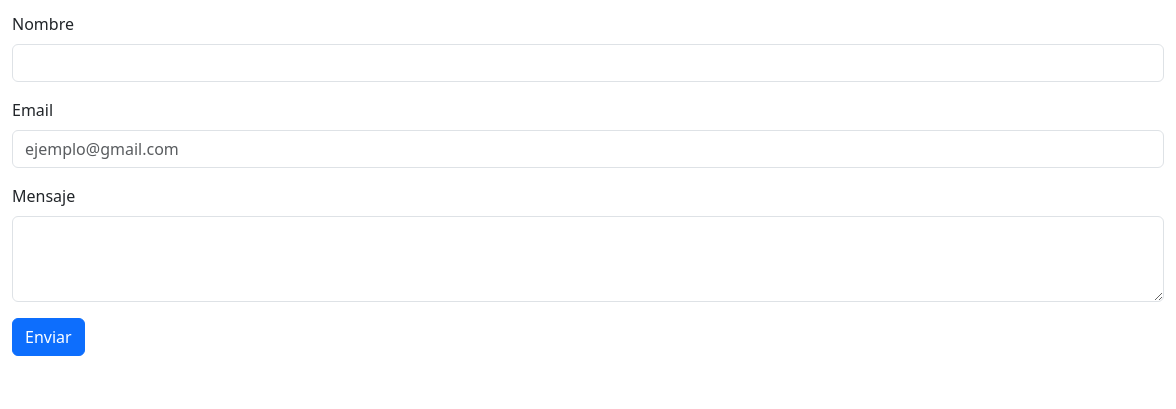
Scenario: ContactForm Component › valida que el email sea válido
Type "Juan Pérez" into the field labelled "Nombre" at (588, 63), box [12,44,1164,82]
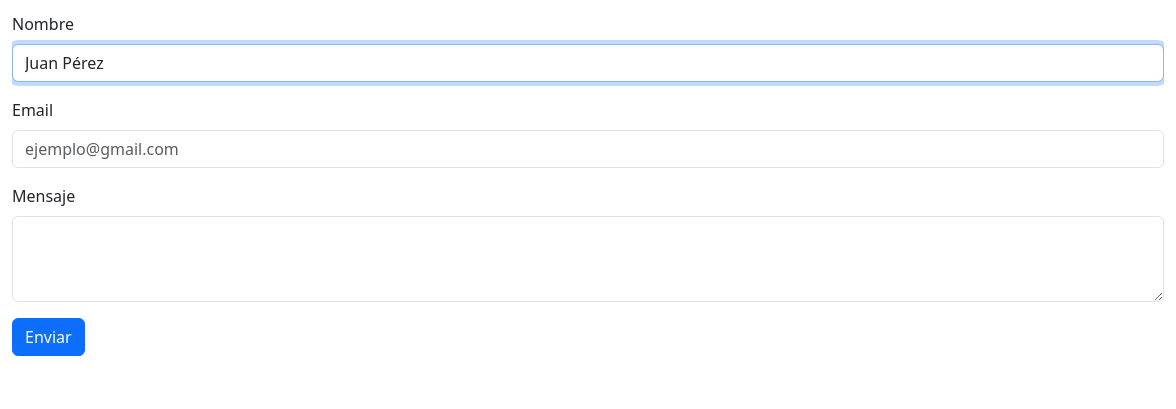
Type "usuario@hotmail.com" into the field labelled "Email" at (588, 149), box [12,130,1164,168]
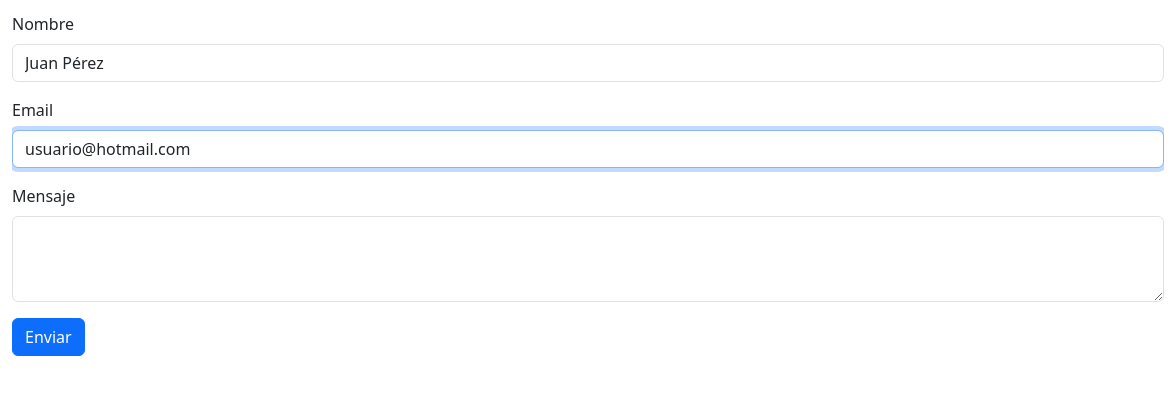
Type "Mensaje de prueba" into the text box labelled "Mensaje" at (588, 259), box [12,216,1164,302]
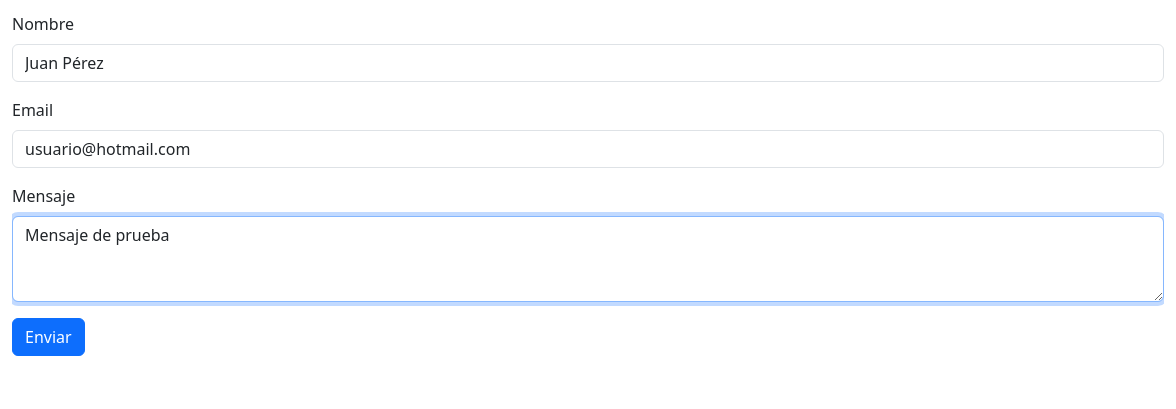
Click the button "Enviar" at (48, 337), box [12,318,85,356]
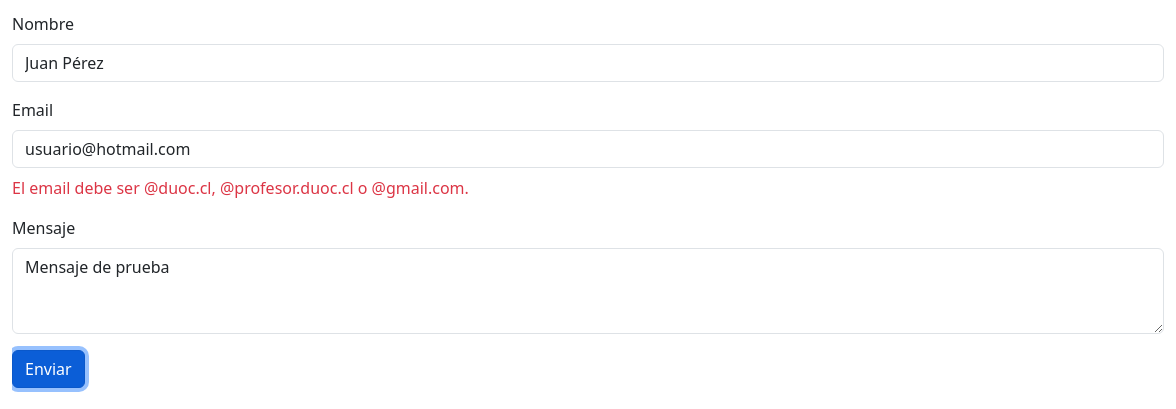
Result: the text "El email debe ser @duoc.cl, @profesor.duoc.cl o @gmail.com." is shown at [12,177,469,199]
